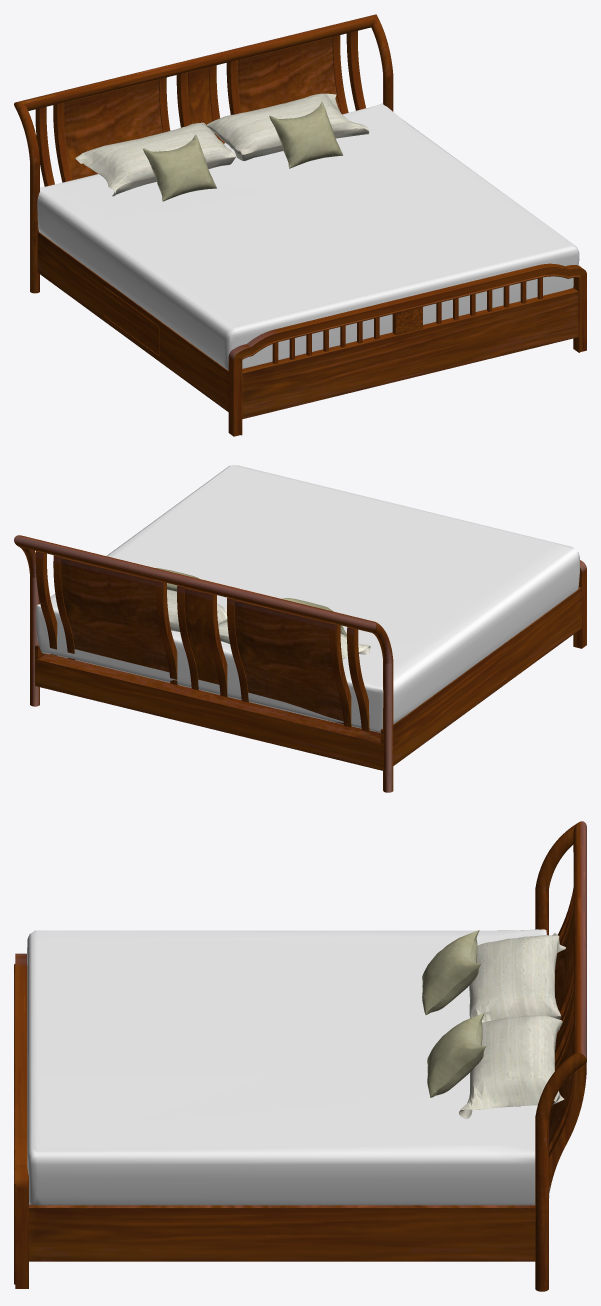
The model's file is raw_model.obj.
3 views of the same model, one above another, from view 1: azimuth 30°, elevation 25°; view 2: azimuth 150°, elevation 25°; view 3: azimuth 270°, elevation 25° (orthographic). The views are drawn at different scales.
Visible parts, largest first — view 1: solid_005, solid_001, solid_002, solid_003, solid_004; view 2: solid_005, solid_001, solid_002, solid_003; view 3: solid_005, solid_001, solid_003, solid_002, solid_004.
Part boxes in pixels (box(x1,y1,x2,y2)): solid_005: box(37, 103, 579, 369); solid_001: box(18, 14, 586, 419); solid_002: box(14, 14, 586, 436); solid_003: box(75, 93, 369, 196); solid_004: box(143, 101, 343, 201); solid_005: box(36, 465, 579, 732); solid_001: box(14, 535, 586, 770); solid_002: box(20, 547, 586, 792); solid_003: box(167, 589, 370, 659); solid_005: box(27, 929, 549, 1205); solid_001: box(14, 821, 586, 1261); solid_003: box(459, 933, 565, 1118); solid_002: box(14, 823, 586, 1291); solid_004: box(422, 930, 486, 1097).
Bounding box in the file's own units: 2.05 × 0.9697 × 2.12.
1 material, 1 textured.
